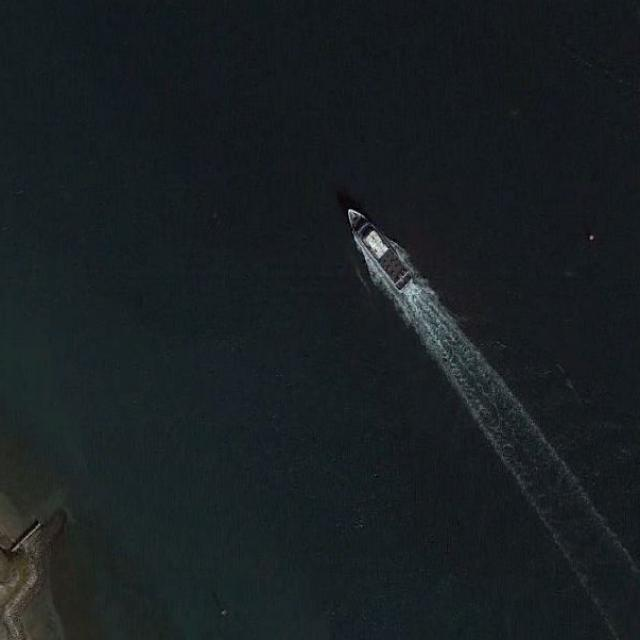ship: (344, 202, 422, 299)
